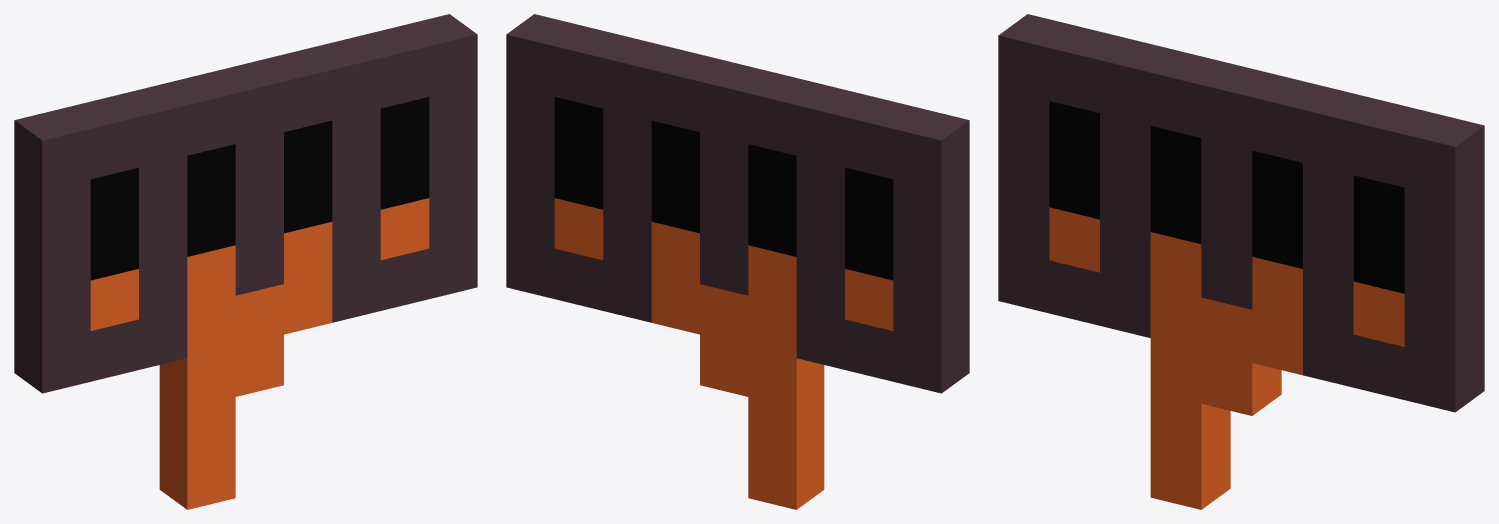
File: wall_grate_b_leaking_lava.obj
The picture shows the model from 3 angles, left to right: view 1: azimuth 30°, elevation 25°; view 2: azimuth 150°, elevation 25°; view 3: azimuth 330°, elevation 25°; orthographic projection. The views are drawn at different scales.
Size of the model in its own units: 0.9 by 0.8 by 0.1.
1 material, 1 textured.
